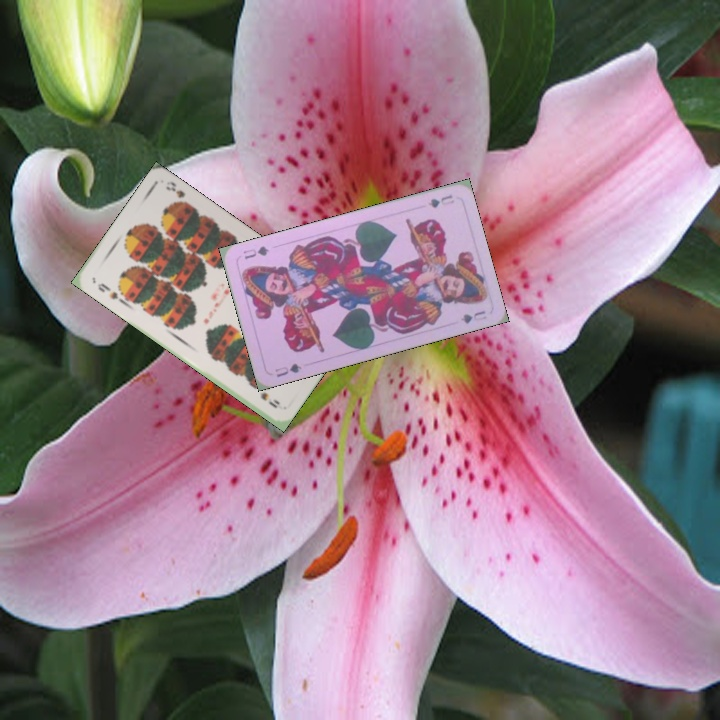GU: (271, 359, 304, 380), (424, 191, 457, 211)
S9: (93, 279, 121, 302)
